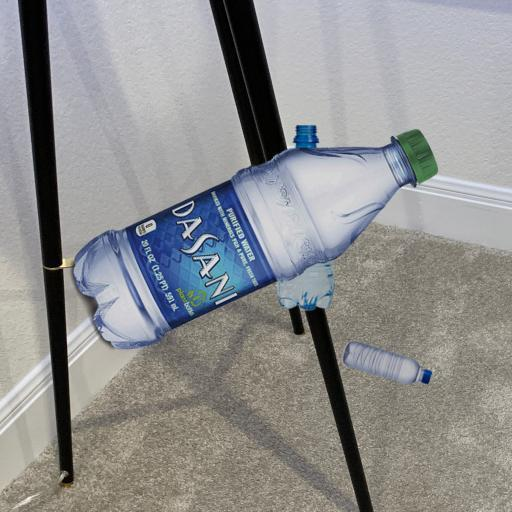bottle: (70, 112, 432, 352), (321, 338, 438, 390)
